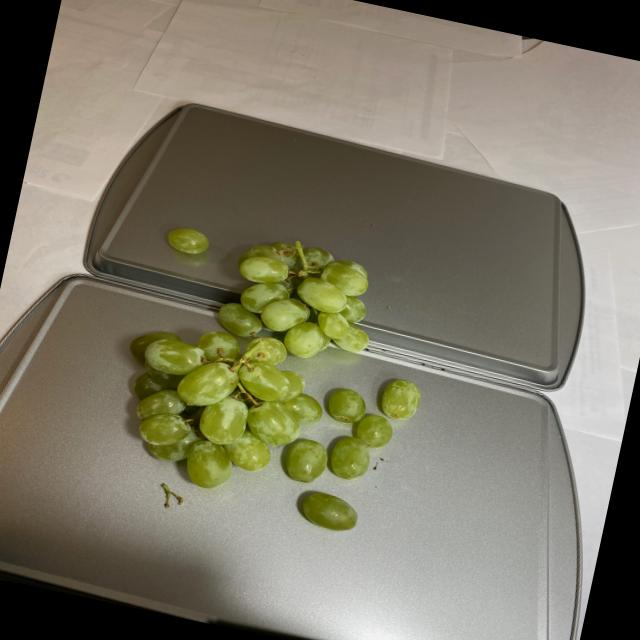grapes: (106, 215, 443, 544)
